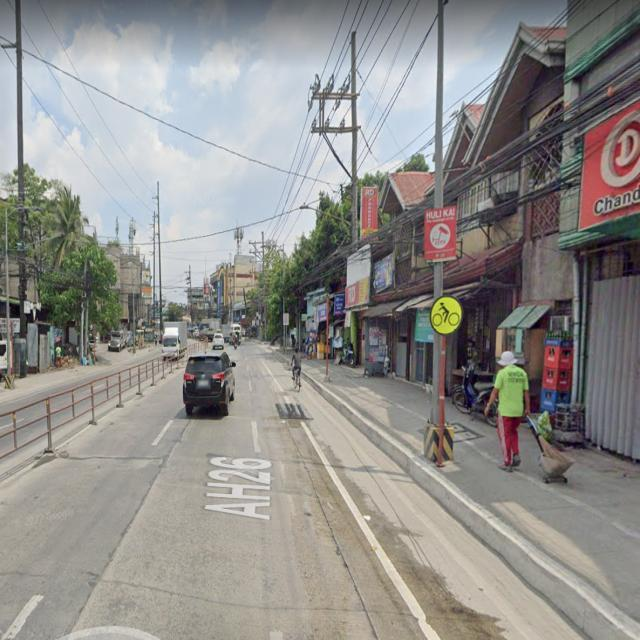bike lane: (428, 293, 466, 344)
